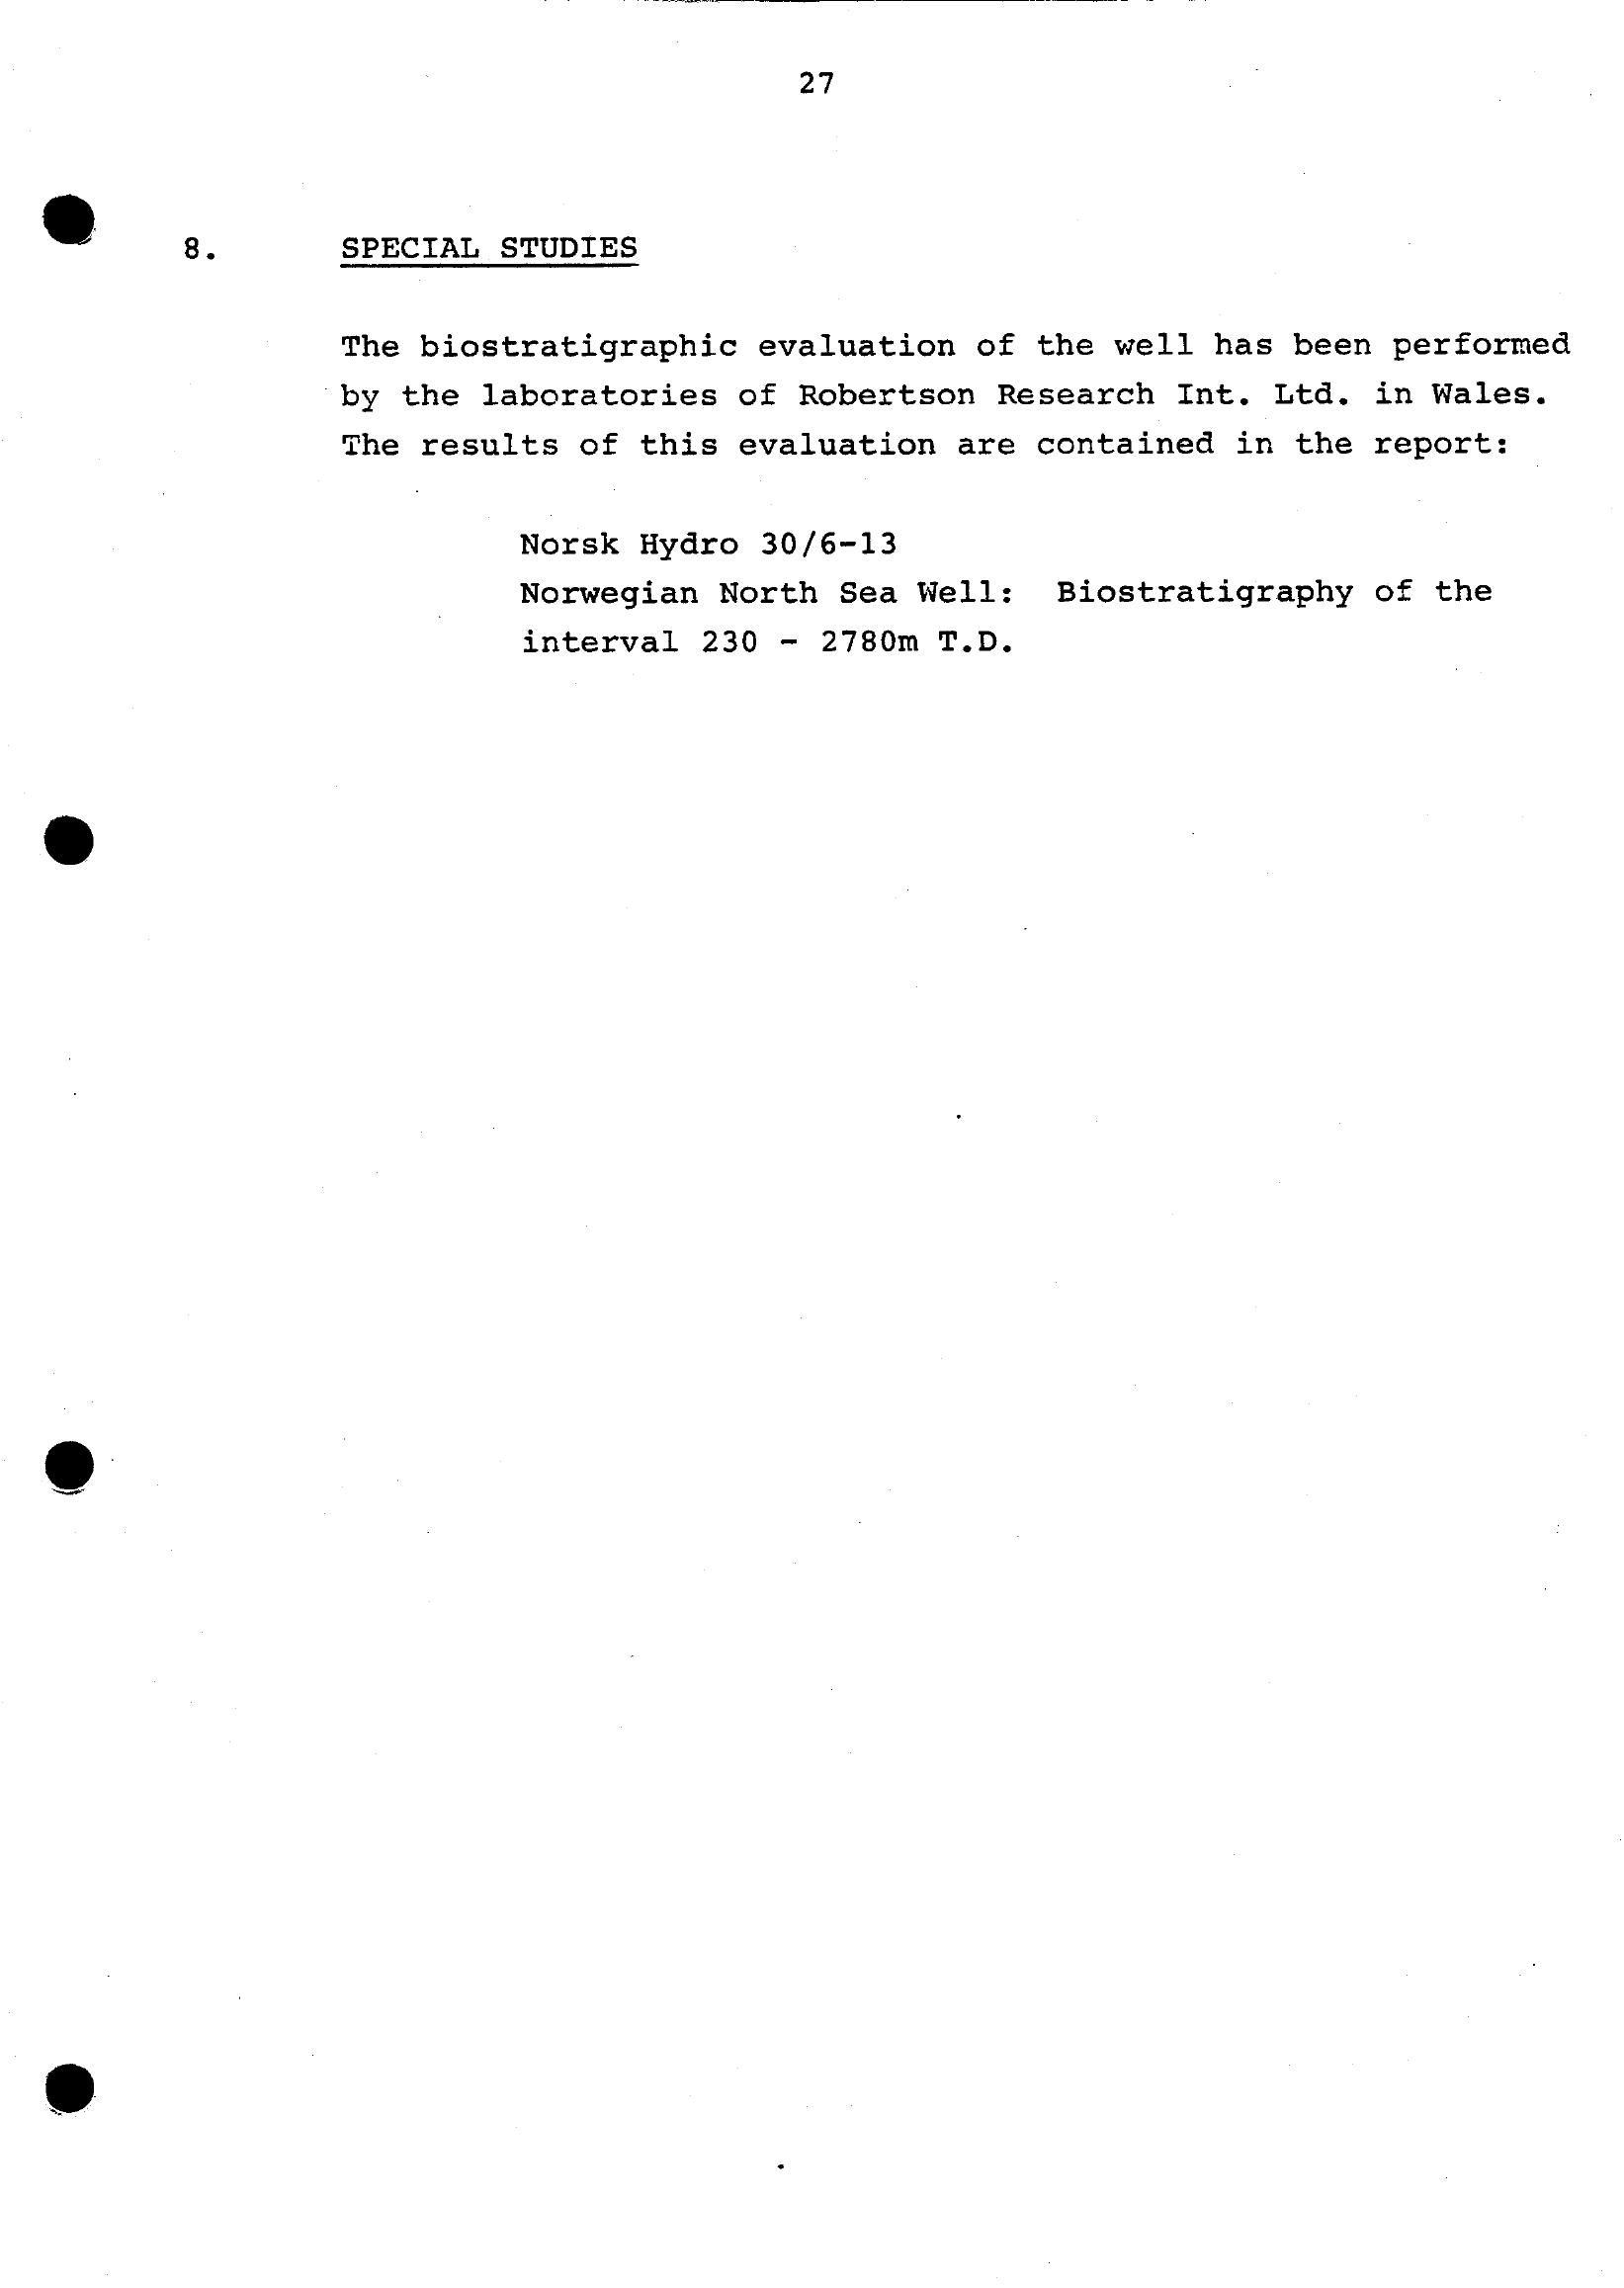text: (311, 197, 1591, 733)
